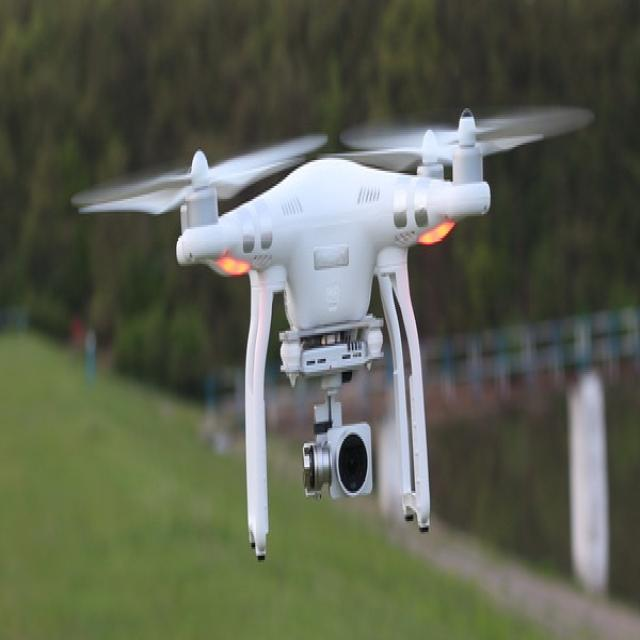drone: (71, 101, 597, 566)
